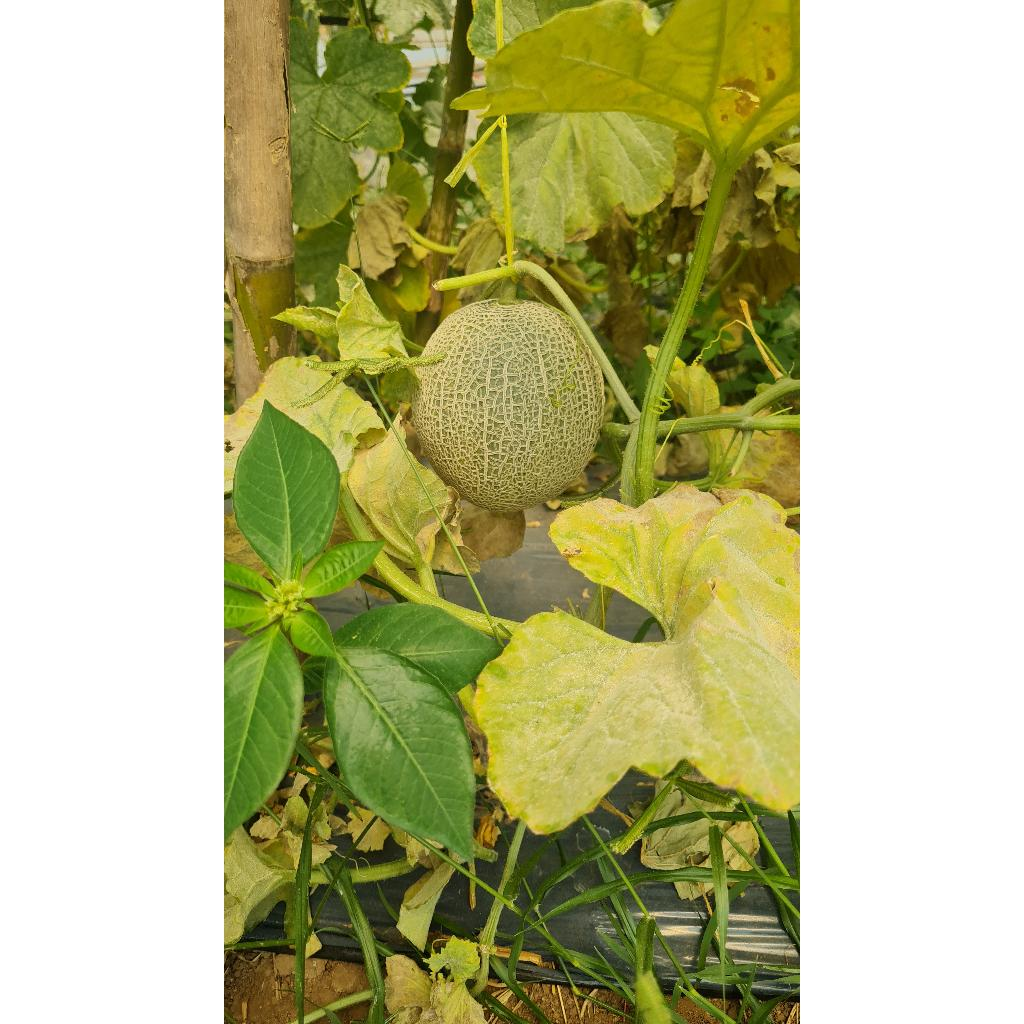melon: (412, 300, 604, 512)
